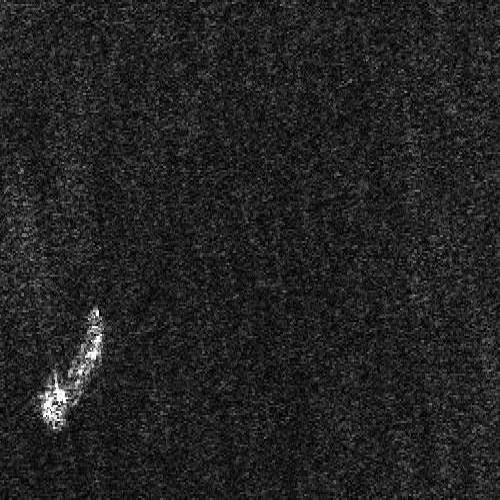ship: (41, 321, 105, 430)
